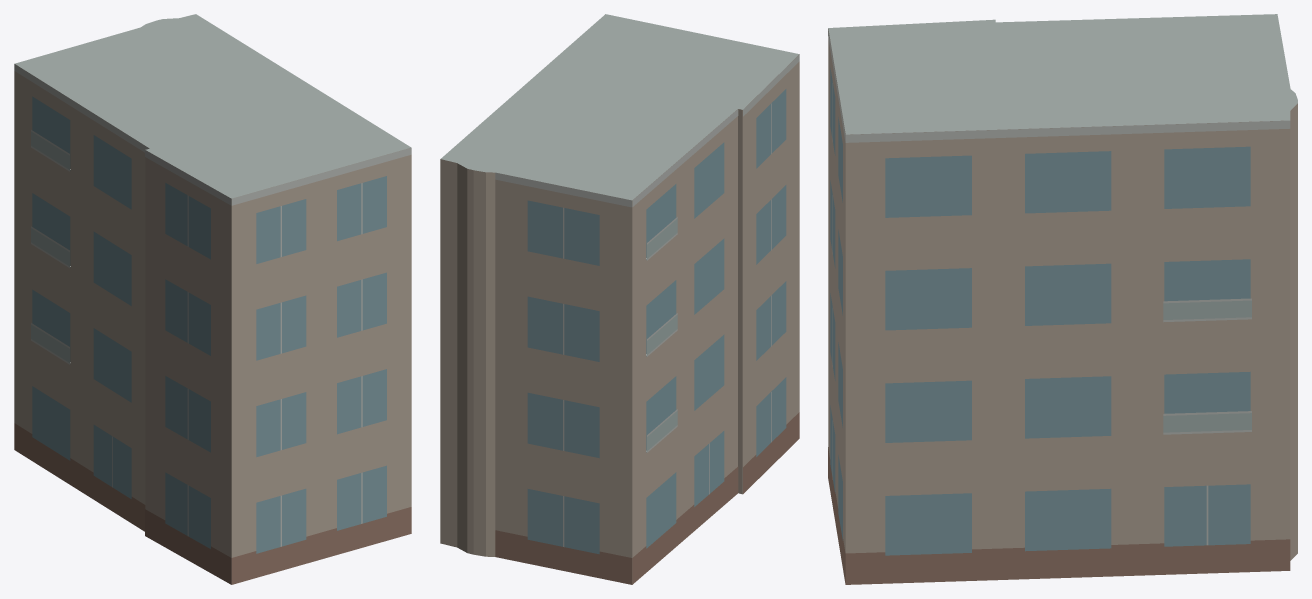
File: survey-upis-32738829.glb
3 renders of one model, left to right at view 1: azimuth 30°, elevation 25°; view 2: azimuth 150°, elevation 25°; view 3: azimuth 270°, elevation 25°, orthographic. The views are drawn at different scales.
Visible parts, largest first — view 1: survey-upis-32738829.tmp; view 2: survey-upis-32738829.tmp; view 3: survey-upis-32738829.tmp.
Part boxes in pixels (x1,y1,x2,y2): survey-upis-32738829.tmp: (14, 14, 411, 584); survey-upis-32738829.tmp: (440, 14, 799, 584); survey-upis-32738829.tmp: (828, 14, 1297, 584).
Size of the model in its own units: 7.59 by 13.2 by 12.48.
